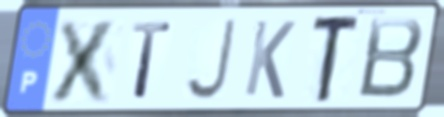B: (355, 15, 427, 102)
J: (182, 17, 239, 104)
K: (241, 17, 298, 102)
T: (309, 11, 364, 106), (129, 20, 174, 102)
X: (45, 16, 124, 106)
